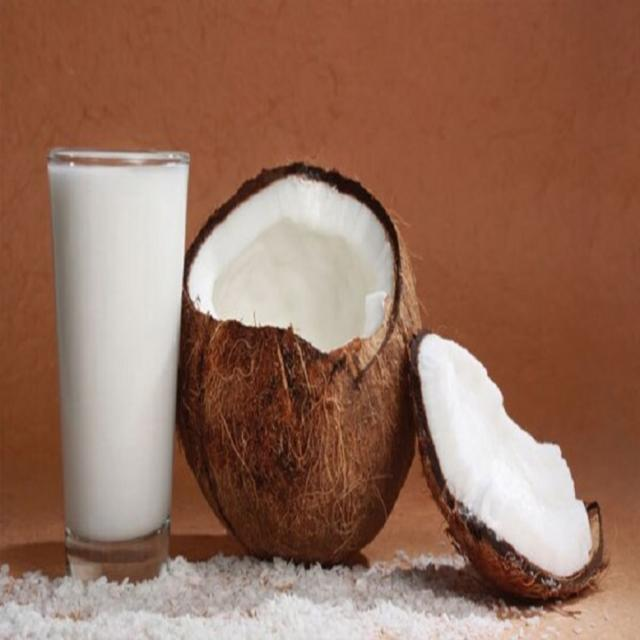coconut: (183, 161, 410, 567), (412, 330, 603, 602)
